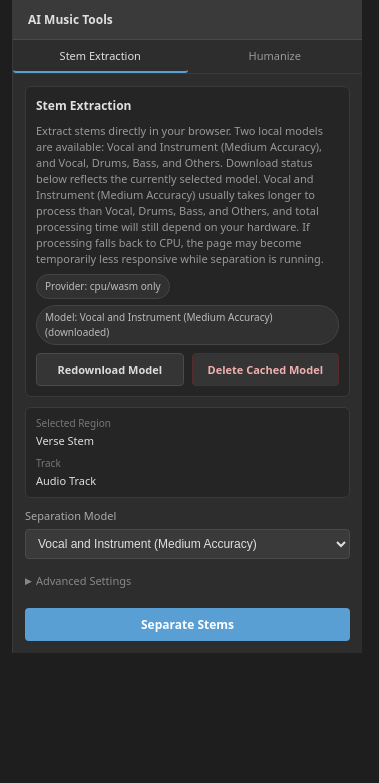
Test case: KGOnePanel browser stem extraction › shows the single local separator model and advanced settings when the model is cached
The image size is (379, 783).
Expected: the text "Selected Region" is shown, [36,416,111,430]
What coordinates should you click on to do the following:
click the button "▶ Advanced Settings"
I would click on:
 (78, 580)
Its box is [25,569,131,592].
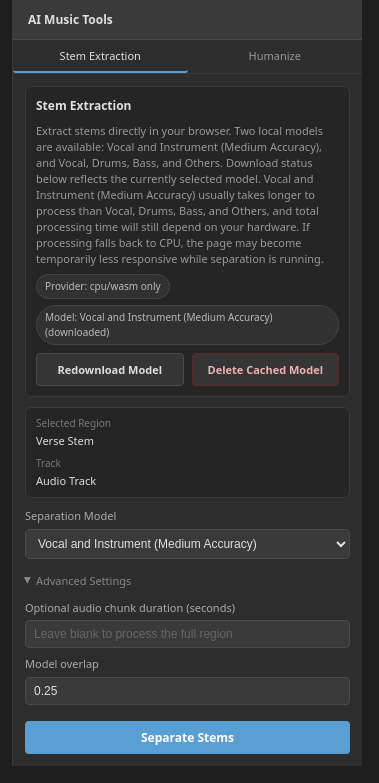
Expected: the number field named "Optional audio chunk duration (seconds)" is shown, [25,620,350,648]
Expected: the number field named "Model overlap" is shown, [25,677,350,705]
